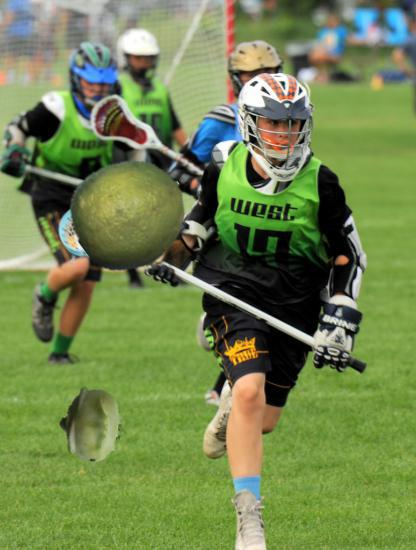Kohlrabi: (55, 387, 131, 463)
Limes: (71, 155, 188, 272)
